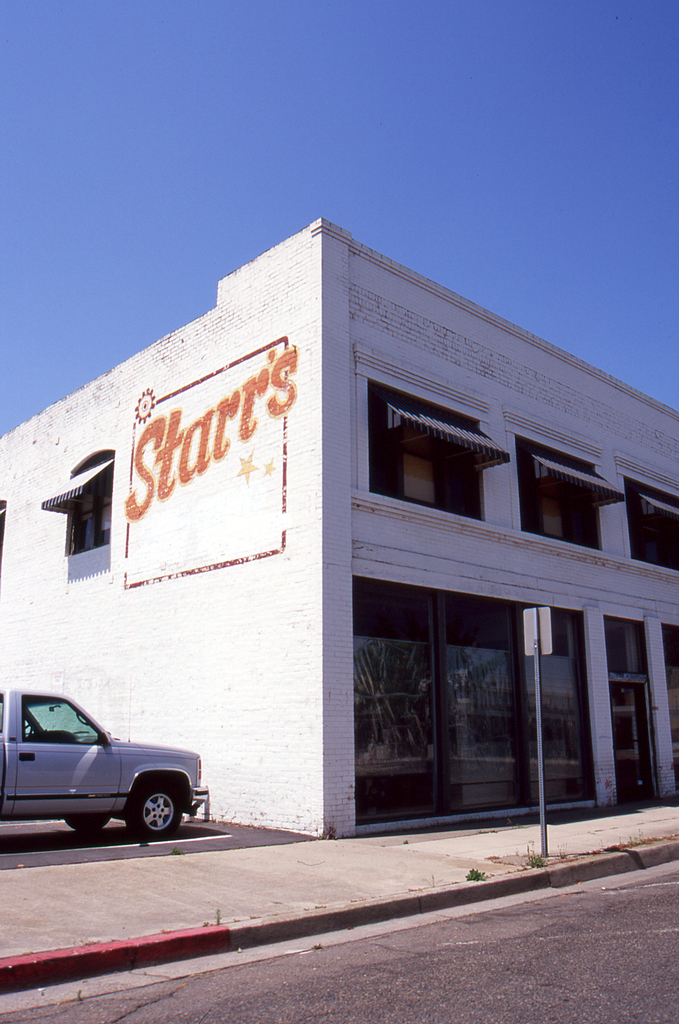Car: (0, 684, 209, 843)
